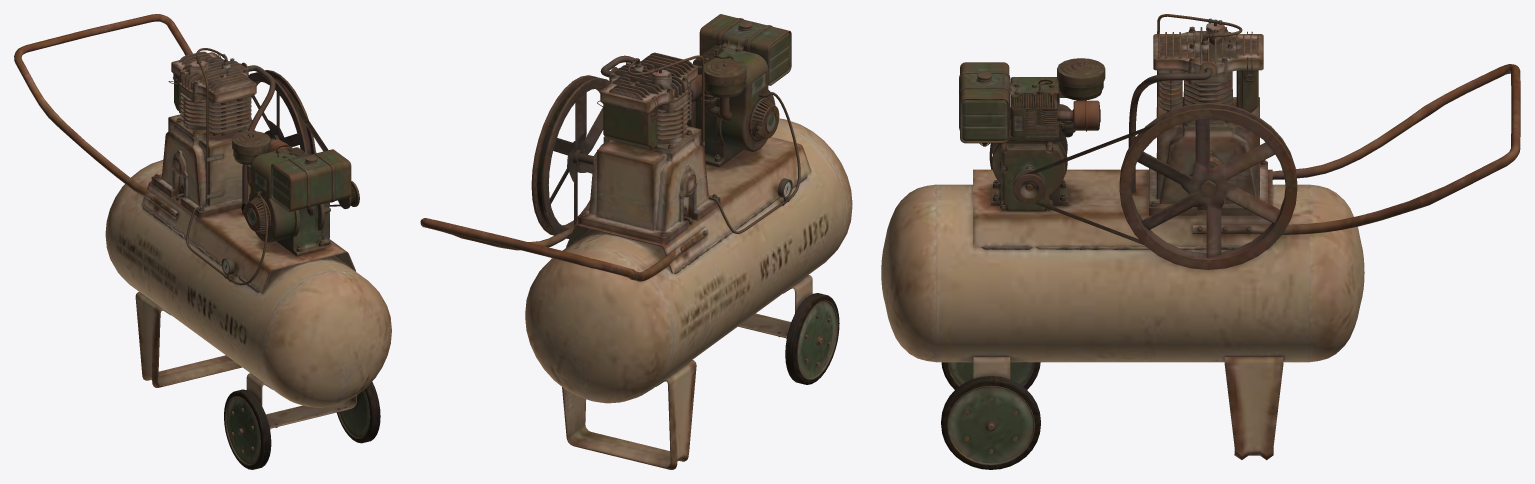
File: compressor.glb
3 views of the same model, side by side, from view 1: azimuth 30°, elevation 25°; view 2: azimuth 150°, elevation 25°; view 3: azimuth 270°, elevation 25° (orthographic). The views are drawn at different scales.
Parts seen in each view (by area): view 1: old_military_compressor; view 2: old_military_compressor; view 3: old_military_compressor.
Part boxes in pixels (x1,y1,x2,y2): old_military_compressor: (14, 14, 391, 469); old_military_compressor: (420, 14, 852, 469); old_military_compressor: (881, 14, 1520, 469).
Size of the model in its own units: 0.5983 by 1.18 by 1.68.
Materials: 2 (2 with a texture image).
